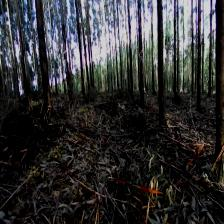trunk: (35, 7, 52, 107), (157, 15, 169, 126), (60, 19, 74, 100), (197, 1, 203, 110), (138, 17, 145, 109), (78, 37, 86, 95), (128, 36, 134, 102), (174, 2, 178, 96), (208, 28, 213, 96), (190, 18, 194, 96)
